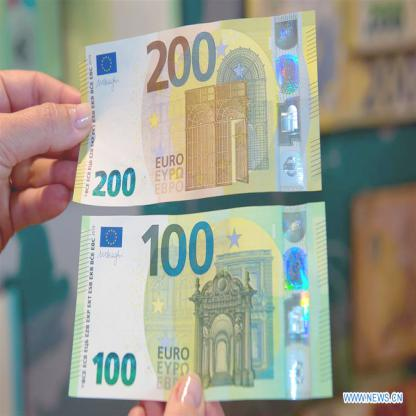euro_banknote: (63, 209, 332, 408), (64, 24, 327, 205)
